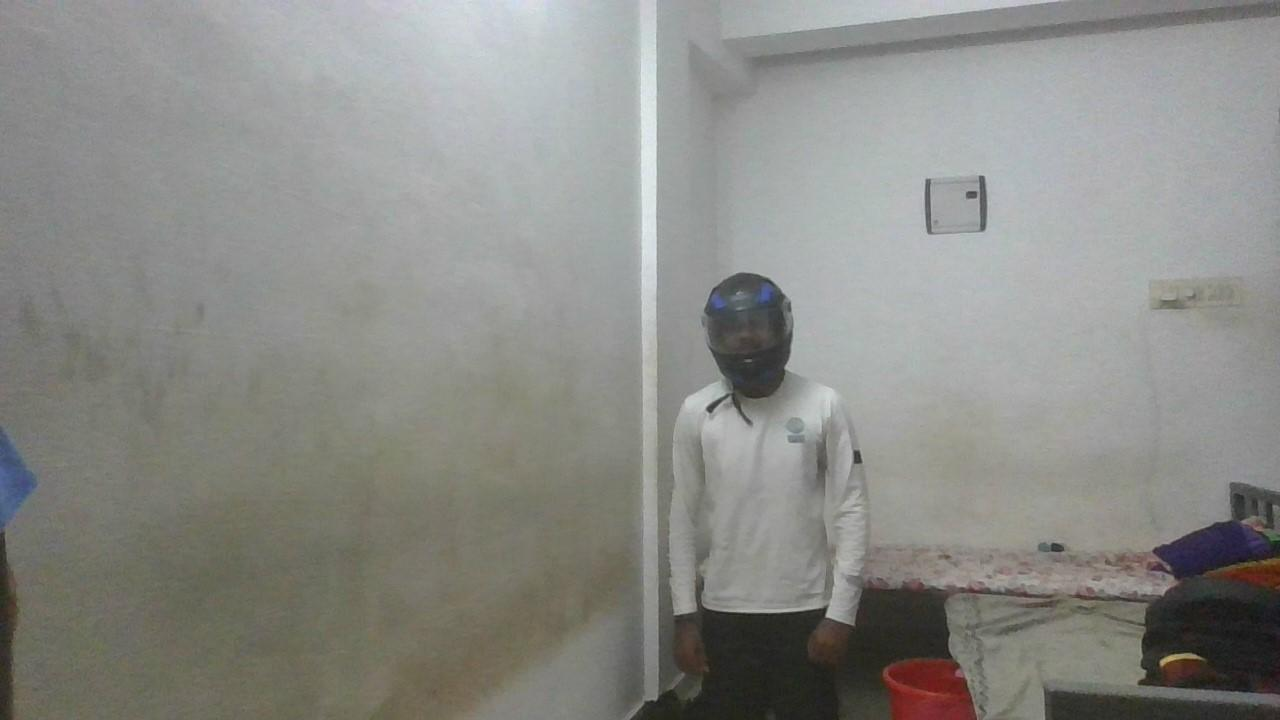helmet: (701, 272, 794, 387)
